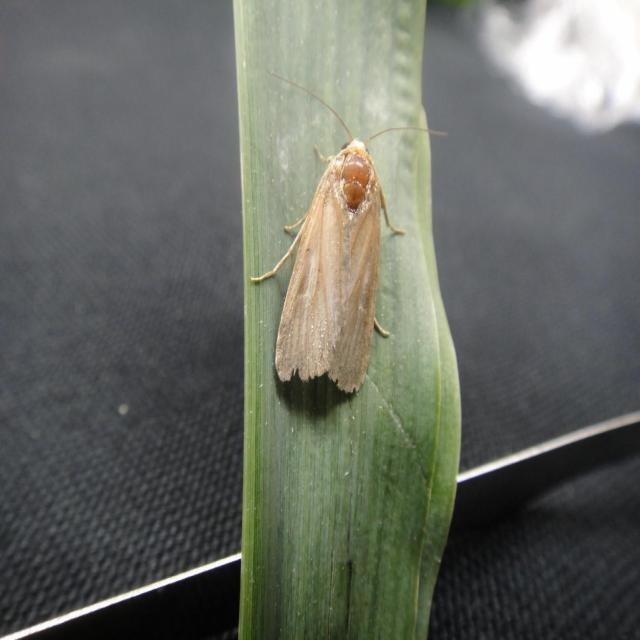BeetArmyWorm-Adult-: (261, 60, 440, 411)
